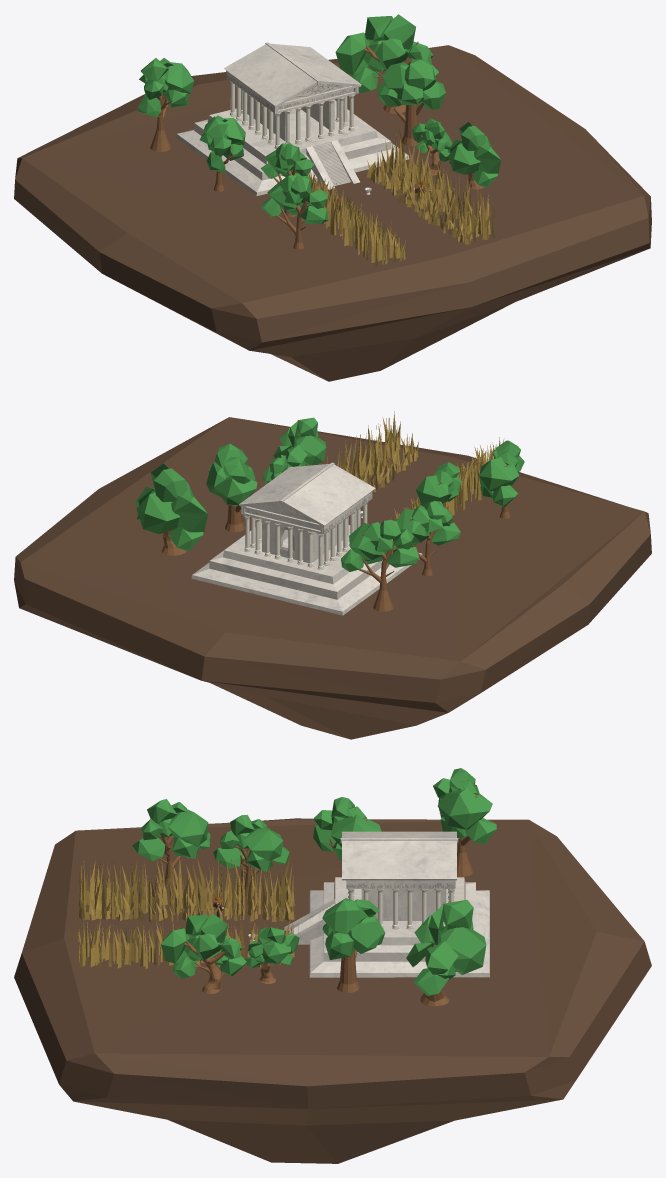
3 renders of one model, top to bottom at view 1: azimuth 30°, elevation 25°; view 2: azimuth 150°, elevation 25°; view 3: azimuth 270°, elevation 25°, orthographic. The views are drawn at different scales.
Parts seen in each view (by area): view 1: Tikei, 球.001, Temple1, kusa, Pillar2, Tree1.008; view 2: Tikei, 球.001, Temple1, kusa, Pillar2, Tree1.008; view 3: Tikei, 球.001, Temple1, kusa, Tree1.008, Pillar2.
Boxes of the visible parts, <box> form: Tikei: <box>14,45,651,381</box>; 球.001: <box>137,14,500,224</box>; Temple1: <box>176,42,409,195</box>; kusa: <box>308,127,494,266</box>; Pillar2: <box>229,81,355,148</box>; Tree1.008: <box>150,41,483,249</box>; Tikei: <box>14,417,651,739</box>; 球.001: <box>135,417,524,571</box>; Temple1: <box>191,462,422,615</box>; kusa: <box>320,411,504,523</box>; Pillar2: <box>243,502,367,569</box>; Tree1.008: <box>162,447,510,611</box>; Tikei: <box>14,818,651,1163</box>; 球.001: <box>132,768,496,996</box>; Temple1: <box>284,831,489,977</box>; kusa: <box>77,856,294,968</box>; Tree1.008: <box>158,794,477,1006</box>; Pillar2: <box>347,889,455,929</box>.
Bounding box in the file's own units: 8258 × 4560 × 8314.
